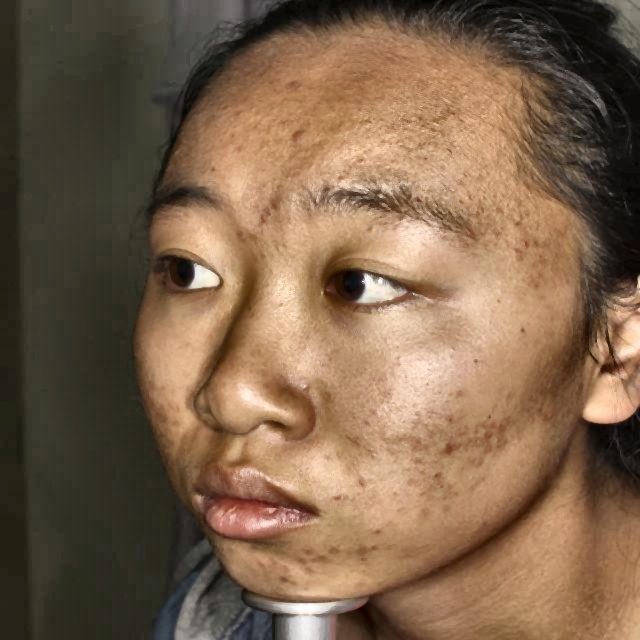pustule: (498, 231, 532, 265), (298, 550, 333, 583), (254, 191, 289, 223), (278, 62, 306, 96), (481, 415, 513, 444), (237, 219, 262, 248), (435, 432, 459, 454), (281, 120, 306, 140)
